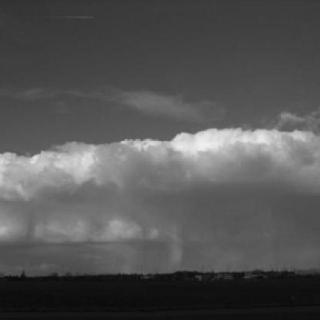Cumulus: (0, 109, 320, 268)
